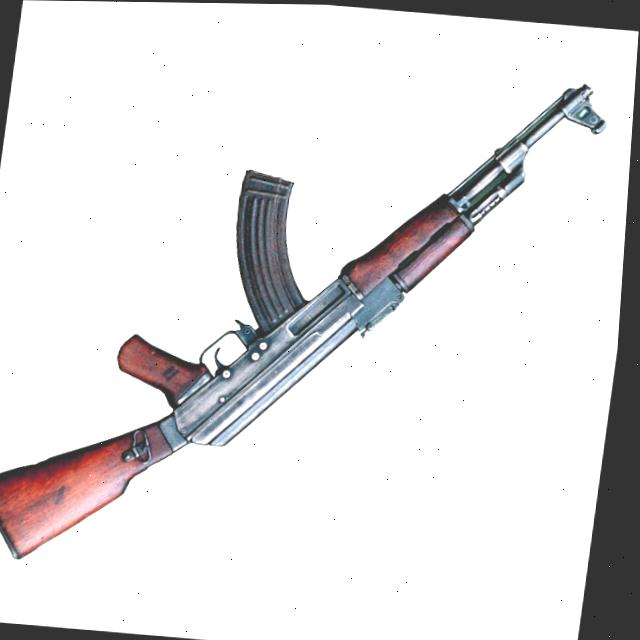rifle: (0, 31, 617, 609)
